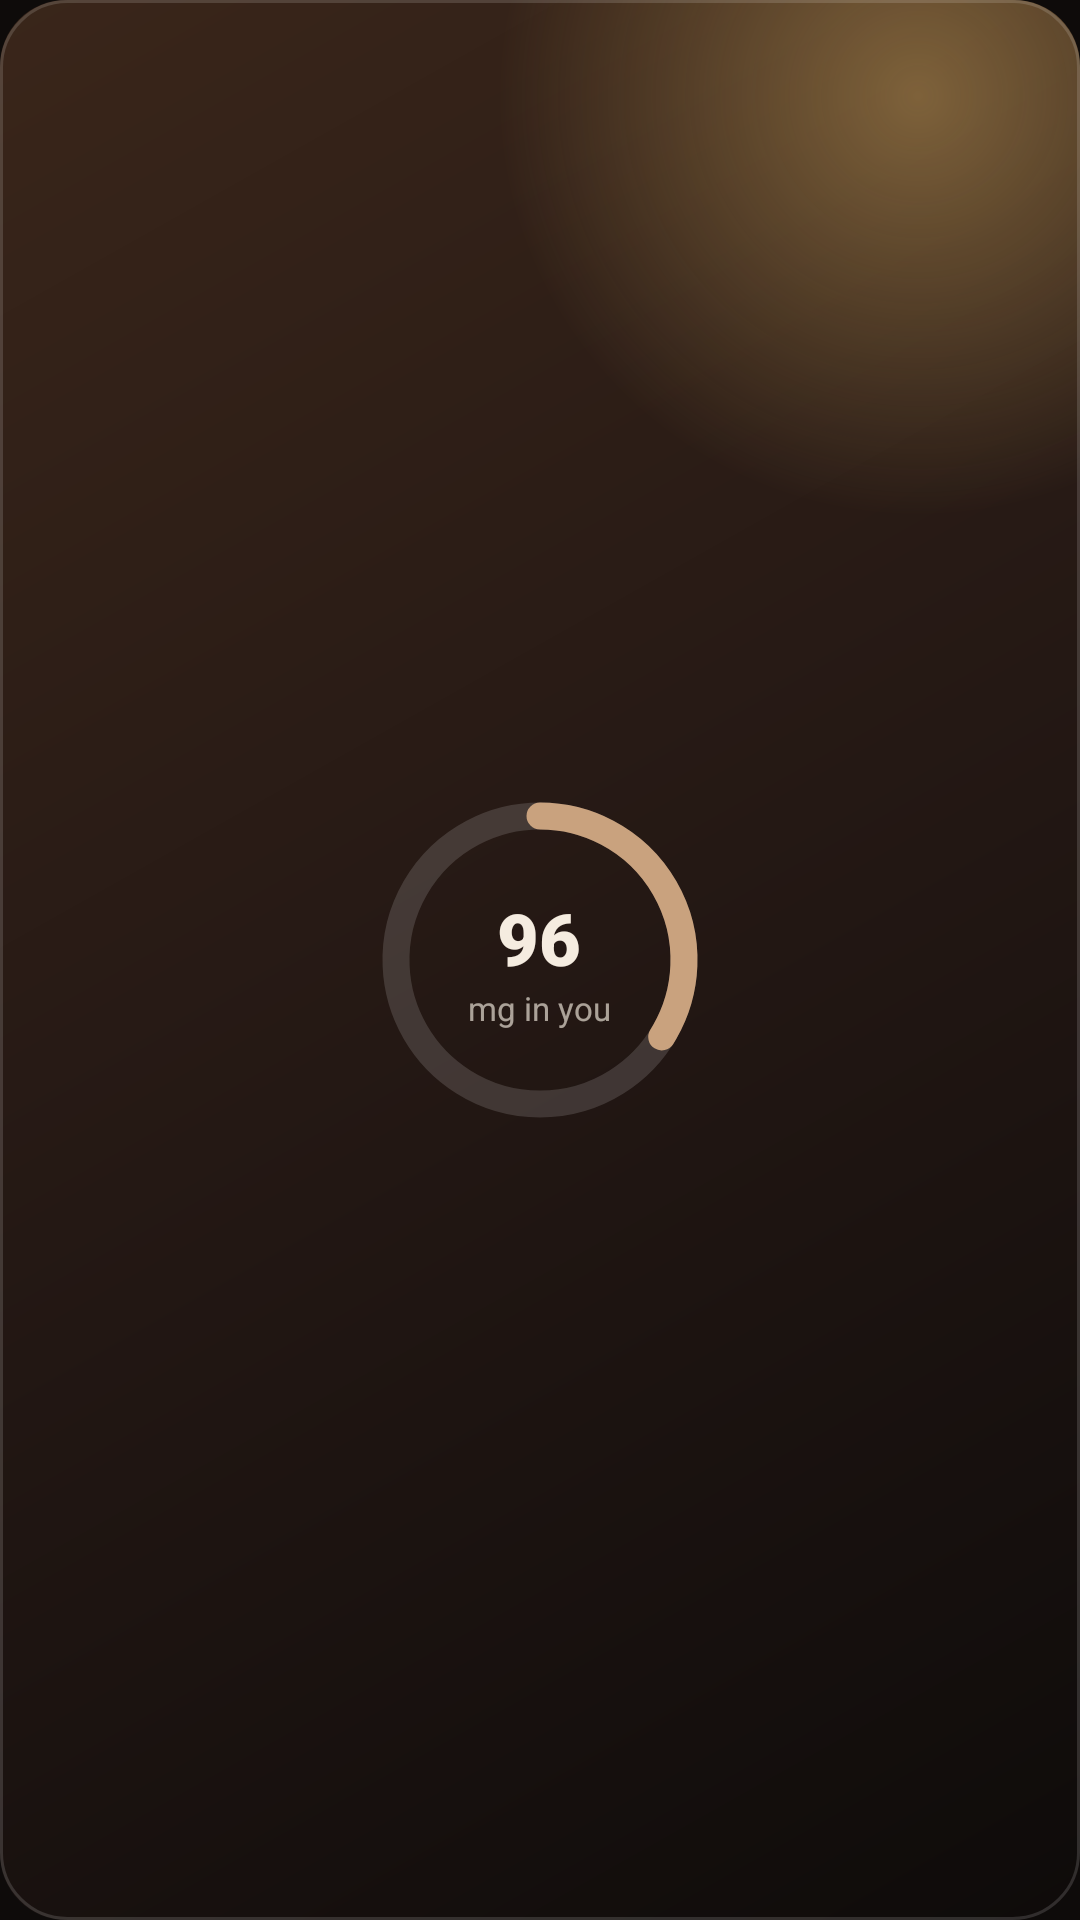

Screen size 1080px×1920px. Icon name, then its box in pixels as (x1, y1, x2, y2):
widget art caffeine: (383, 802, 698, 1117)
